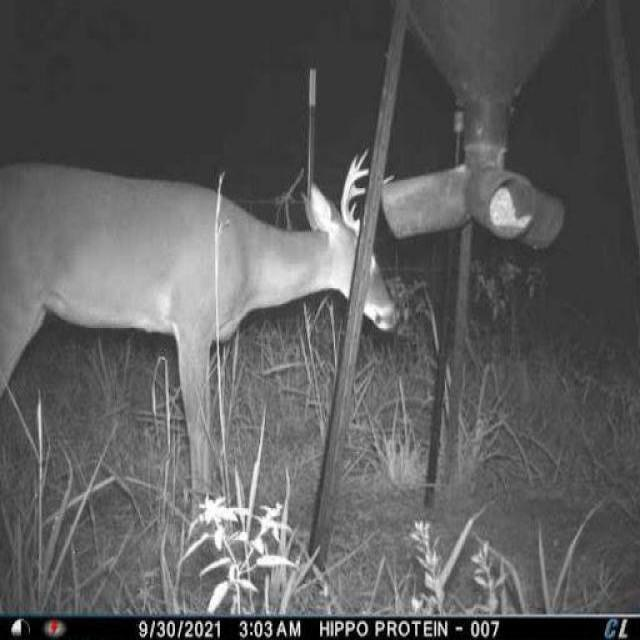deer: (0, 139, 402, 532)
